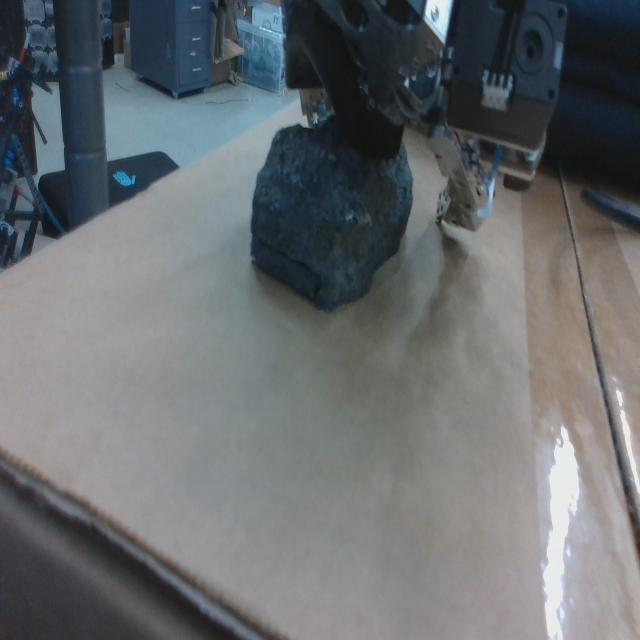stone: (250, 122, 414, 315)
